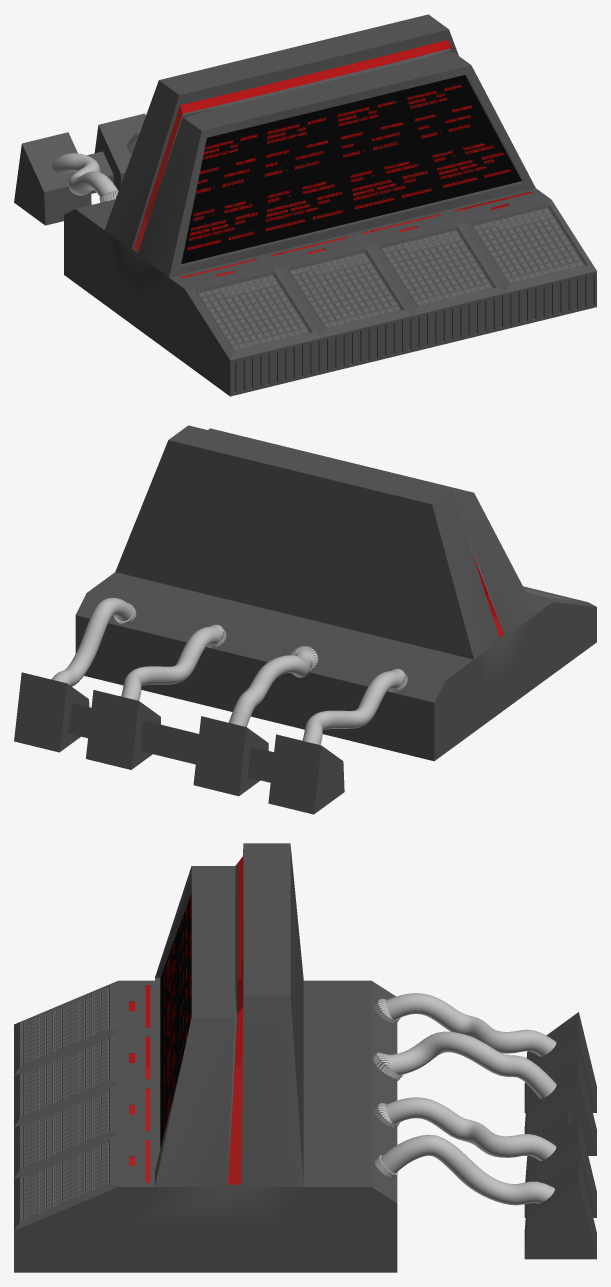
File: future2_controlPanel1.fbx
The picture shows the model from 3 angles, top to bottom: view 1: azimuth 30°, elevation 25°; view 2: azimuth 150°, elevation 25°; view 3: azimuth 270°, elevation 25°; orthographic projection. The views are drawn at different scales.
Visible parts, largest first — view 1: future2_controlPanel1; view 2: future2_controlPanel1; view 3: future2_controlPanel1.
Boxes of the visible parts, x1=… form: future2_controlPanel1: x1=14, y1=14, x2=596, y2=396; future2_controlPanel1: x1=14, y1=425, x2=596, y2=814; future2_controlPanel1: x1=14, y1=843, x2=596, y2=1272.
Size of the model in its own units: 23.65 by 13.36 by 28.23.
